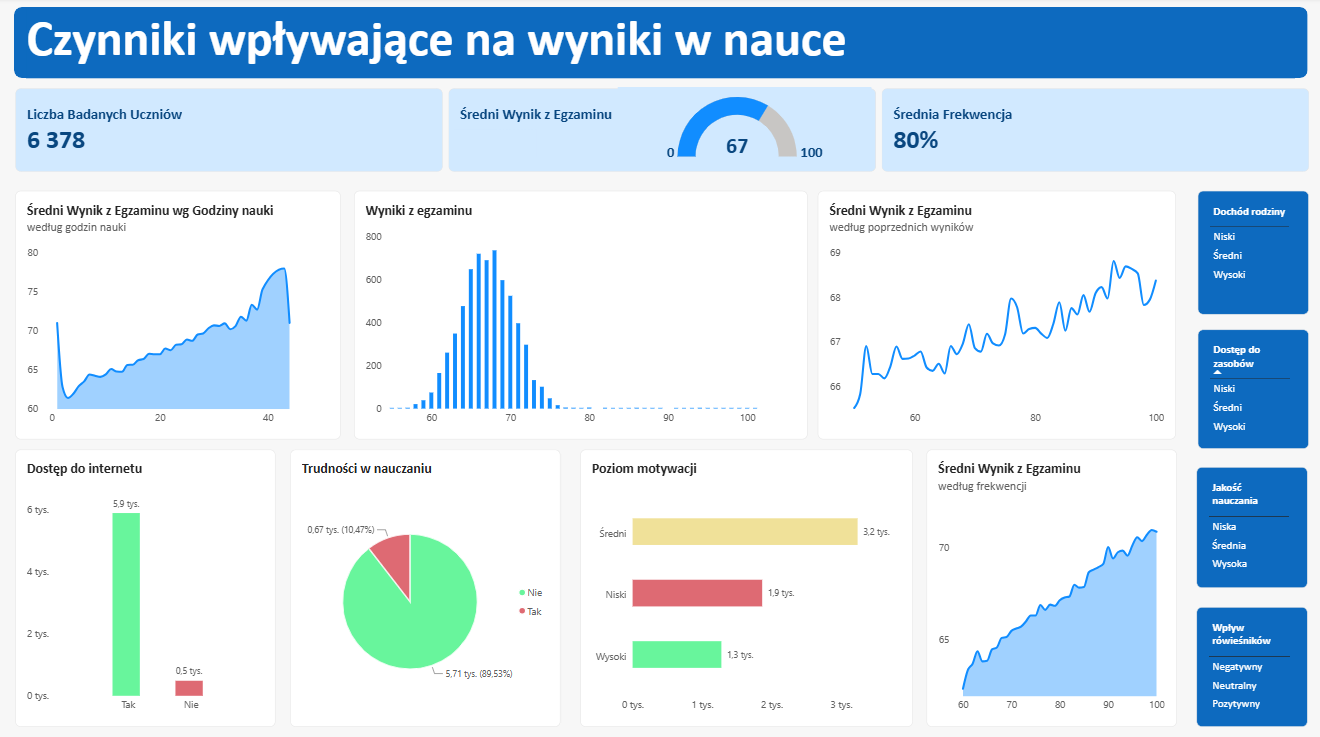

Layout of this report page (visuals, bound fields, positions):
{"tool":"powerbi","page":{"name":"Strona 1","canvas":[1920,1080],"ordinal":0},"visuals":[{"type":"cardVisual","fields":{"Data":["StudentPerformanceFactors.Liczba Badanych Uczniów","StudentPerformanceFactors.Średni Wynik z Egzaminu","StudentPerformanceFactors.Średnia Frekwencja"]},"box":[22.6,131.7,1873.1,121.4],"z":0},{"type":"clusteredColumnChart","title":"Wyniki z egzaminu","fields":{"Category":["StudentPerformanceFactors.Wynik z egzaminu"],"Y":["CountNonNull(StudentPerformanceFactors.Wynik z egzaminu)1"]},"box":[514.6,279.9,656.6,360.2],"z":1000},{"type":"columnChart","title":"Dostęp do internetu","fields":{"Category":["StudentPerformanceFactors.Dostęp do internetu"],"Y":["CountNonNull(StudentPerformanceFactors.Wynik z egzaminu)"]},"box":[22.6,654.5,376.7,401.4],"z":2000},{"type":"gauge","title":"Średni Wynik z Egzaminu","fields":{"Y":["Avg(StudentPerformanceFactors.Wynik z egzaminu)"]},"box":[895.8,130.3,367.4,121.2],"z":3000},{"type":"areaChart","fields":{"Category":["StudentPerformanceFactors.Godziny nauki"],"Y":["StudentPerformanceFactors.Średni Wynik z Egzaminu"]},"box":[22.6,279.9,471.4,360.2],"z":4000},{"type":"pieChart","title":"Trudności w nauczaniu","fields":{"Category":["StudentPerformanceFactors.Trudności w nauczaniu"],"Y":["CountNonNull(StudentPerformanceFactors.Trudności w nauczaniu)"]},"box":[422,654.5,391.1,401.4],"z":5000},{"type":"lineChart","title":"Średni Wynik z Egzaminu","fields":{"Category":["StudentPerformanceFactors.Poprzednie wyniki"],"Y":["StudentPerformanceFactors.Średni Wynik z Egzaminu"]},"box":[1185.6,279.9,518.7,360.2],"z":6000},{"type":"barChart","title":"Poziom motywacji","fields":{"Category":["StudentPerformanceFactors.Poziom motywacji"],"Y":["CountNonNull(StudentPerformanceFactors.Poziom motywacji)"]},"box":[841.9,654.5,481.6,401.4],"z":7000},{"type":"areaChart","title":"Średni Wynik z Egzaminu","fields":{"Category":["StudentPerformanceFactors.Frekwencja"],"Y":["StudentPerformanceFactors.Średni Wynik z Egzaminu"]},"box":[1342,654.5,362.3,401.4],"z":8000},{"type":"tableEx","fields":{"Values":["StudentPerformanceFactors.Dochód rodziny"]},"box":[1735.5,280.5,161.1,179.2],"z":9000},{"type":"tableEx","fields":{"Values":["StudentPerformanceFactors.Dostęp do zasobów"]},"box":[1735.5,481.4,160.5,172.9],"z":10000},{"type":"tableEx","fields":{"Values":["StudentPerformanceFactors.Jakość nauczania"]},"box":[1733.7,680.4,161.1,175.5],"z":11000},{"type":"tableEx","fields":{"Values":["StudentPerformanceFactors.Wpływ rówieśników"]},"box":[1733.7,883.1,161.1,173.7],"z":12000},{"type":"shape","box":[21.7,14.5,1873.1,102.9],"z":13000},{"type":"textbox","box":[39.1,14.4,1836,102.9],"z":14000},{"type":"shape","box":[658.7,191.8,119.4,39.8],"z":15000}]}

Visuals, with their boxes in screenshot pixels (x1, y1, x2, y2), scaled from the page's 1920x1080 canvas onto the 1320x737 screenshot:
cardVisual - StudentPerformanceFactors.Liczba Badanych Uczniów x StudentPerformanceFactors.Średni Wynik z Egzaminu: 16/90/1303/173
"Wyniki z egzaminu" clusteredColumnChart: 354/191/805/437
"Dostęp do internetu" columnChart: 16/447/275/721
"Średni Wynik z Egzaminu" gauge: 616/89/868/172
areaChart - StudentPerformanceFactors.Godziny nauki x StudentPerformanceFactors.Średni Wynik z Egzaminu: 16/191/340/437
"Trudności w nauczaniu" pieChart: 290/447/559/721
"Średni Wynik z Egzaminu" lineChart: 815/191/1172/437
"Poziom motywacji" barChart: 579/447/910/721
"Średni Wynik z Egzaminu" areaChart: 923/447/1172/721
tableEx - StudentPerformanceFactors.Dochód rodziny: 1193/191/1304/314
tableEx - StudentPerformanceFactors.Dostęp do zasobów: 1193/329/1304/446
tableEx - StudentPerformanceFactors.Jakość nauczania: 1192/464/1303/584
tableEx - StudentPerformanceFactors.Wpływ rówieśników: 1192/603/1303/721
shape: 15/10/1303/80
textbox: 27/10/1289/80
shape: 453/131/535/158
